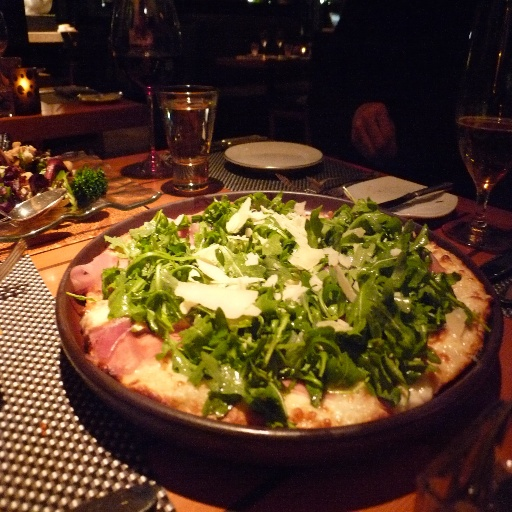hand: (349, 101, 393, 157)
